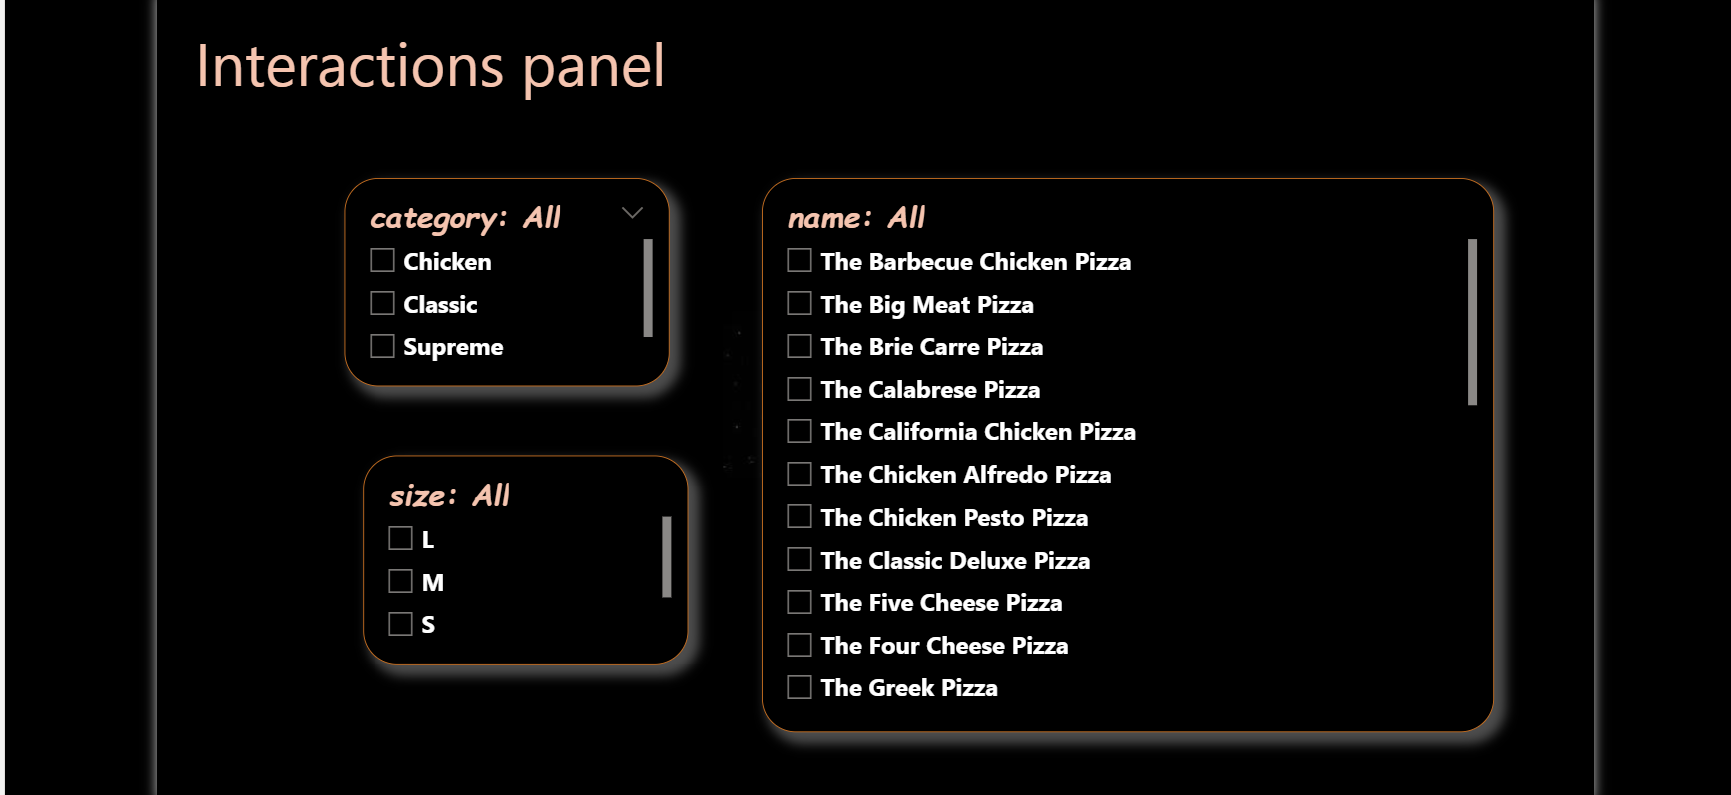

Layout of this report page (visuals, bound fields, positions):
{"tool":"powerbi","page":{"name":"Interactions panel","canvas":[1280,720],"ordinal":1},"visuals":[{"type":"slicer","fields":{"Values":["pizza_types_Lookup.category"]},"box":[167.4,164.7,289.5,185.2],"z":0},{"type":"slicer","fields":{"Values":["pizza_types_Lookup.name"]},"box":[539.3,164.7,651.8,494],"z":1000},{"type":"slicer","fields":{"Values":["pizzas_Lookup.size"]},"box":[183.9,411.7,289.5,186.6],"z":2000},{"type":"textbox","box":[28.8,20.6,510.5,109.8],"z":3000}]}

Visuals, with their boxes on the page's 1280x720 design canvas (x1, y1, x2, y2). These are canvas units, not pixel positions in the 1731x795 screenshot, which may show the page scaled, cropped or inside an application window:
slicer - pizza_types_Lookup.category: <bbox>167, 165, 457, 350</bbox>
slicer - pizza_types_Lookup.name: <bbox>539, 165, 1191, 659</bbox>
slicer - pizzas_Lookup.size: <bbox>184, 412, 473, 598</bbox>
textbox: <bbox>29, 21, 539, 130</bbox>
